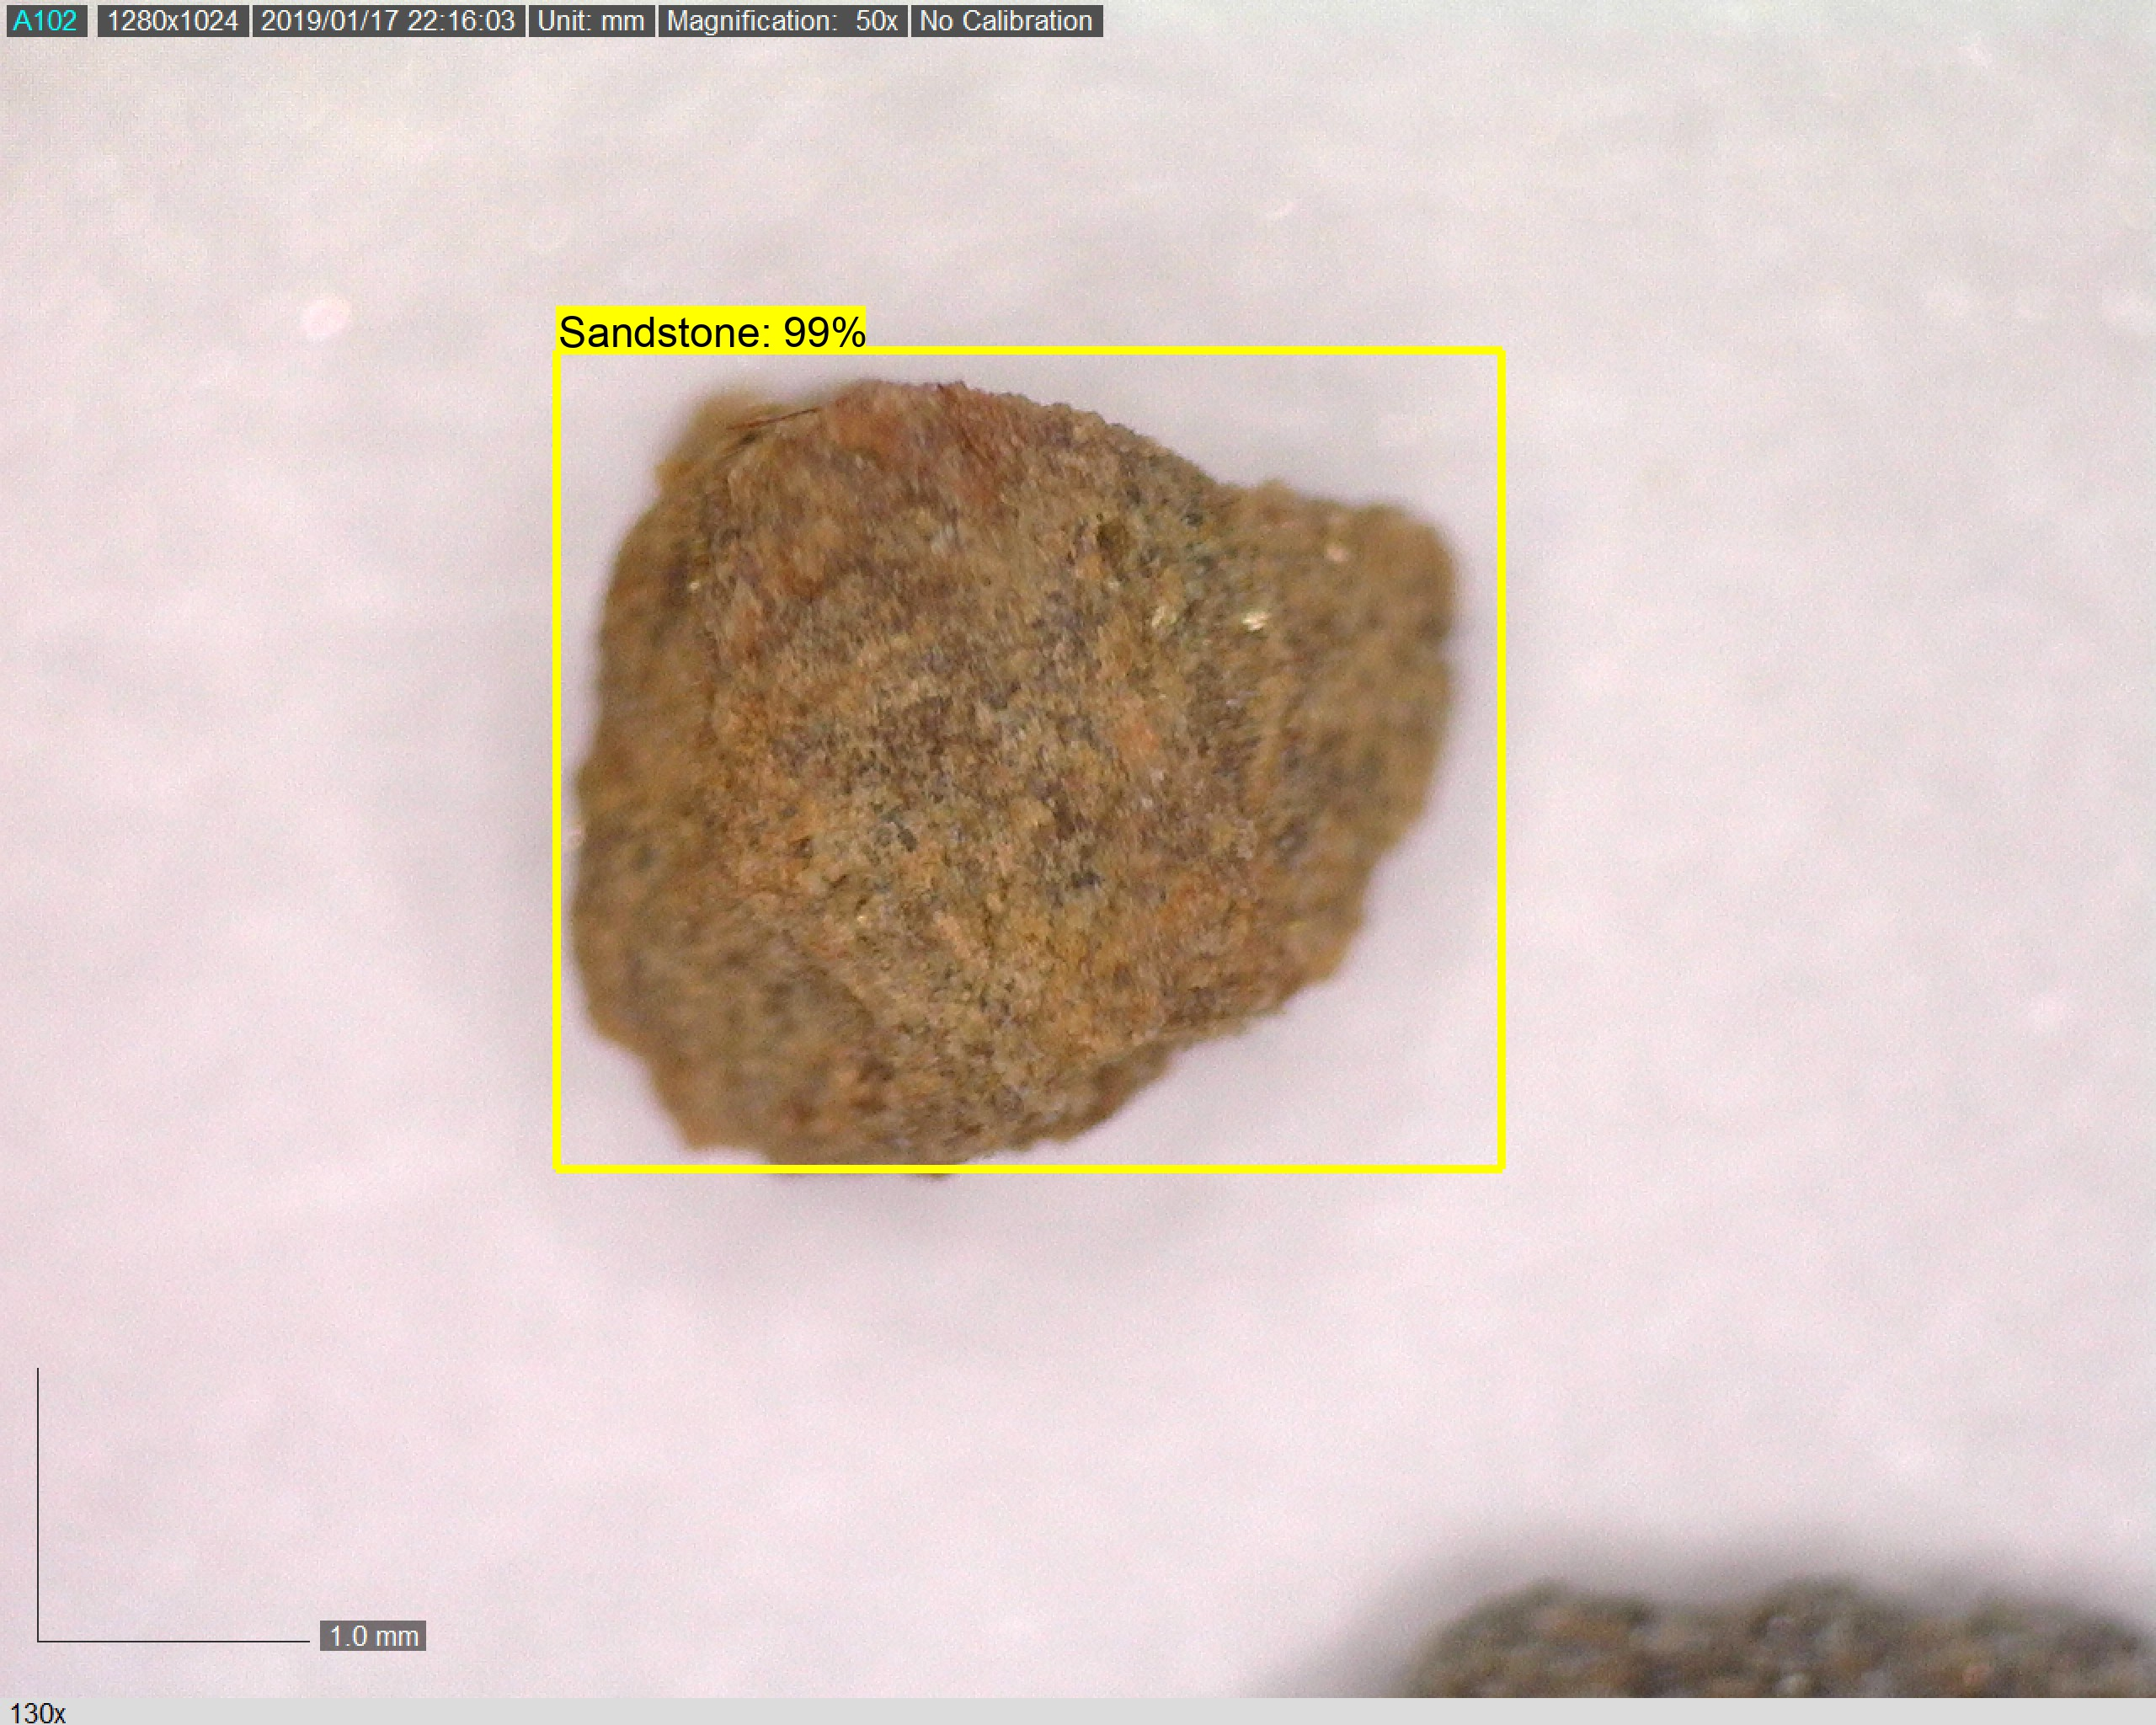Sandstone: (568, 377, 1507, 1211)
